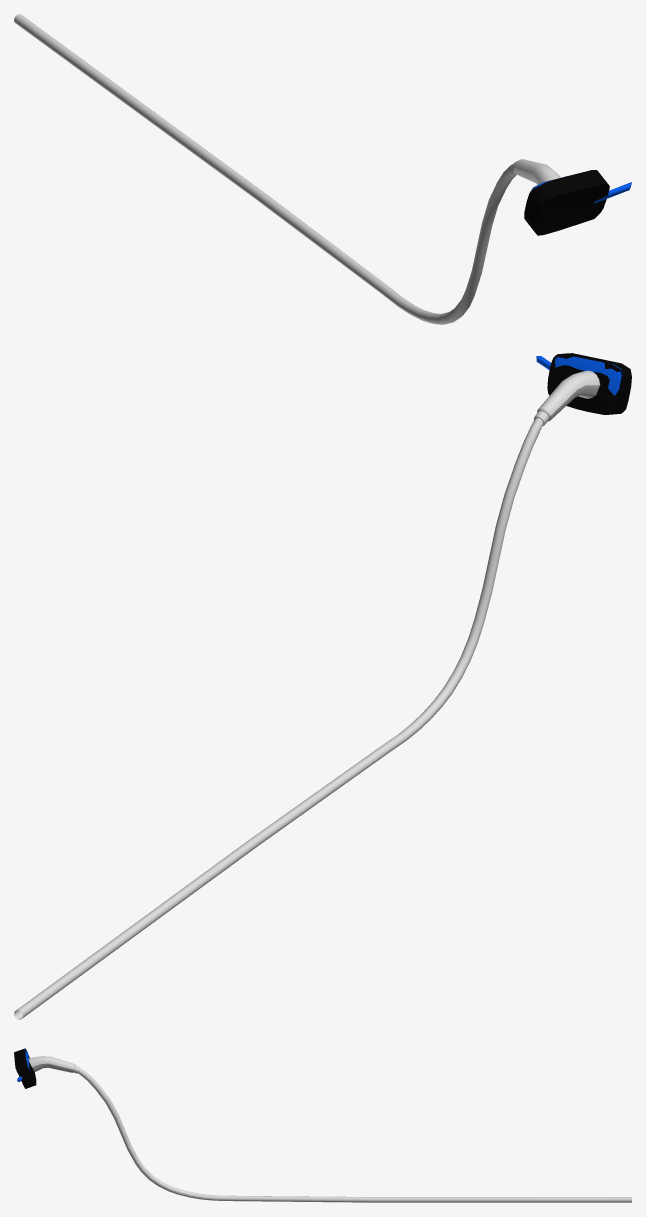
Rendered from leftCharger.fbx.
3 renders of one model, top to bottom at view 1: azimuth 30°, elevation 25°; view 2: azimuth 150°, elevation 25°; view 3: azimuth 270°, elevation 25°, orthographic. The views are drawn at different scales.
Parts seen in each view (by area): view 1: chondianqiang, manfanshe; view 2: chondianqiang, manfanshe, gaiban; view 3: chondianqiang, manfanshe.
Boxes of the visible parts, x1,y1,x2,y2 form: chondianqiang: (14,14,560,324); manfanshe: (524,170,609,235); chondianqiang: (14,370,600,1019); manfanshe: (547,353,631,414); gaiban: (536,356,622,395); chondianqiang: (28,1056,631,1202); manfanshe: (14,1048,36,1088).
Bounding box in the file's own units: 41.5 × 109 × 430.
